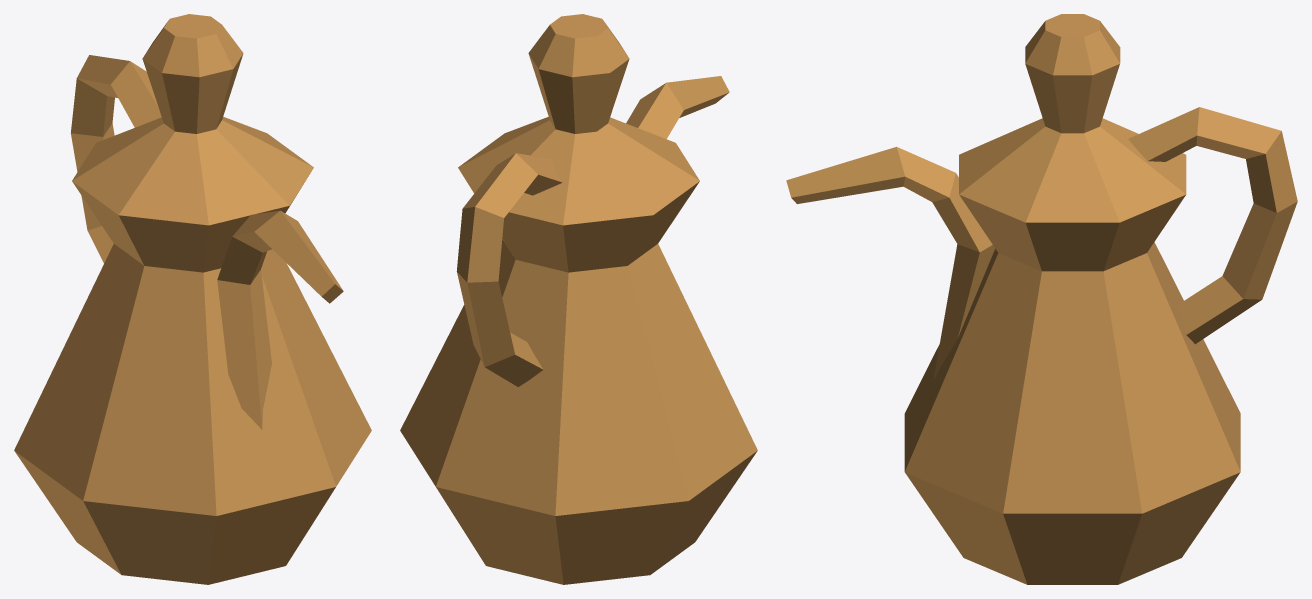
The model's file is SM_Prop_Gold_Teapot_01.fbx.
3 views of the same model, side by side, from view 1: azimuth 30°, elevation 25°; view 2: azimuth 150°, elevation 25°; view 3: azimuth 270°, elevation 25° (orthographic).
Visible parts, largest first — view 1: SM_Prop_Gold_Teapot_01; view 2: SM_Prop_Gold_Teapot_01; view 3: SM_Prop_Gold_Teapot_01.
Boxes of the visible parts, x1=… form: SM_Prop_Gold_Teapot_01: x1=14, y1=14, x2=371, y2=584; SM_Prop_Gold_Teapot_01: x1=400, y1=14, x2=757, y2=584; SM_Prop_Gold_Teapot_01: x1=786, y1=14, x2=1297, y2=584.
Size of the model in its own units: 24.91 by 41.99 by 37.93.
